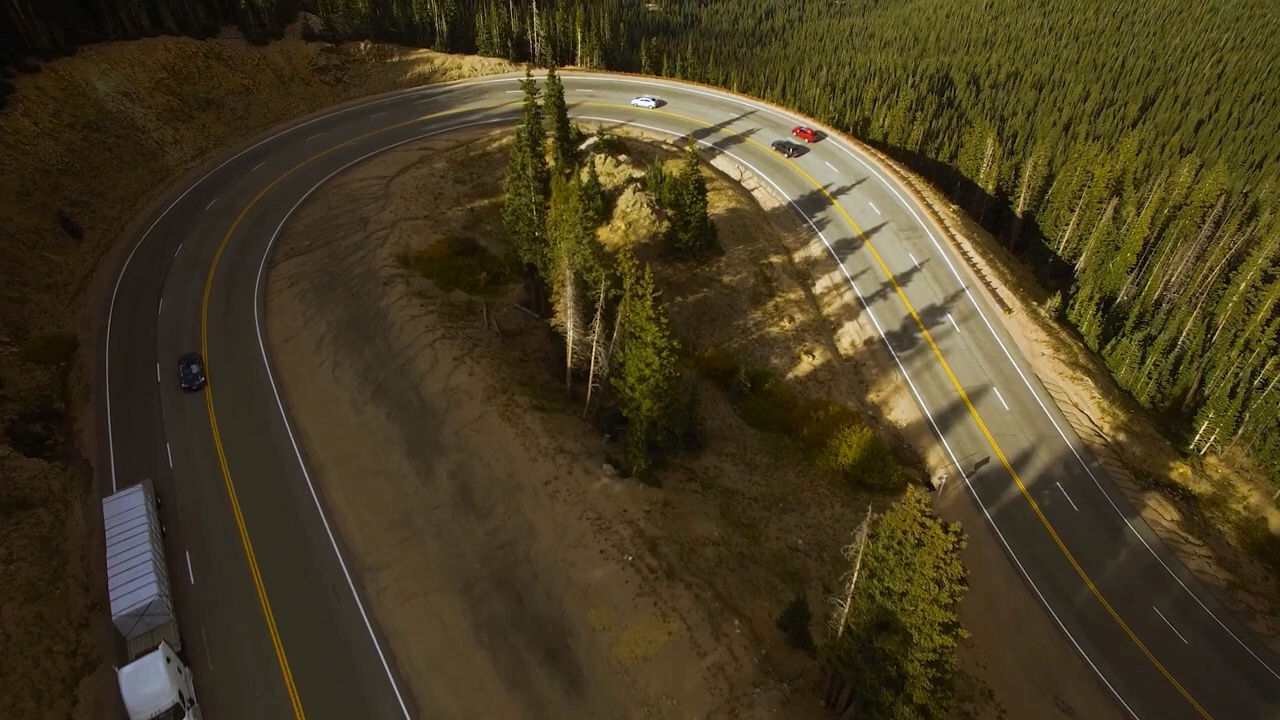araba: (176, 347, 209, 394), (791, 122, 820, 146), (768, 138, 801, 157), (627, 95, 659, 113)
kamyon: (102, 474, 207, 720)
